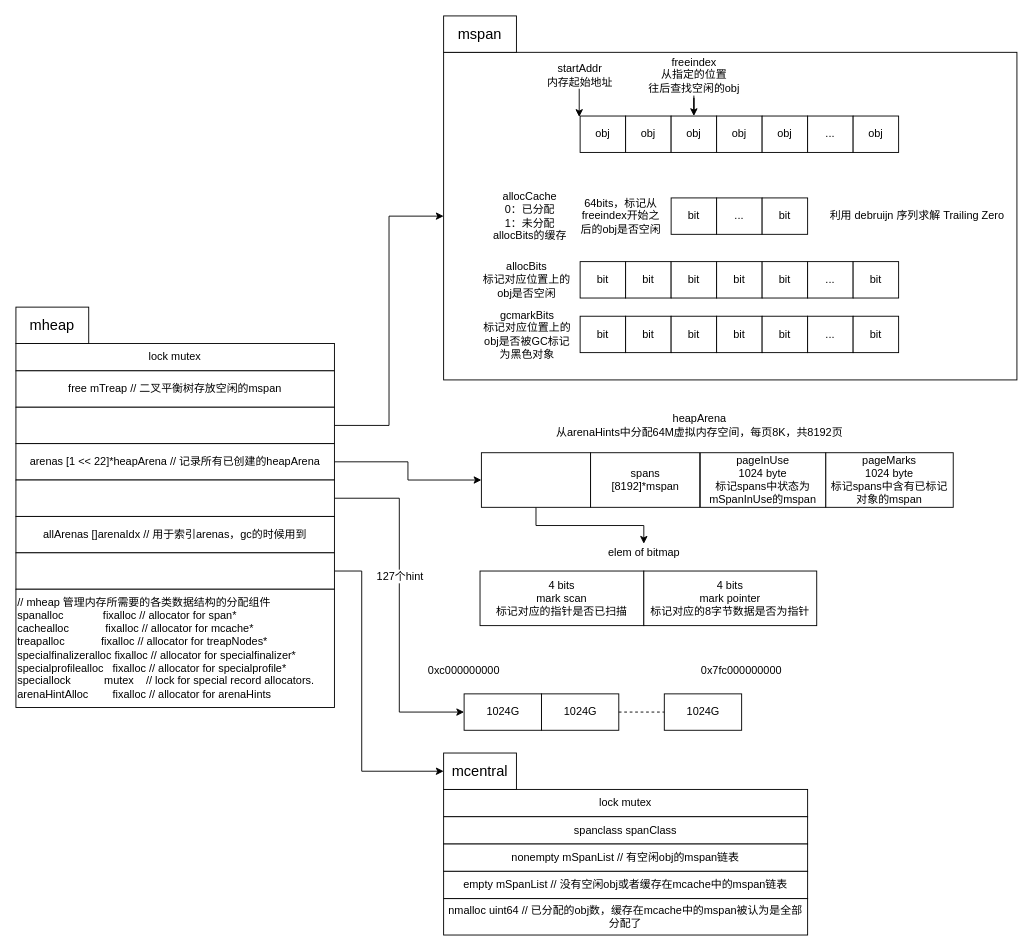
Image size: 1033x951. Some labels were removed from this diagram. The centre of each missing label's shape, as x and y in pixels:
"allspans []*mspan // 记录所有创建过的mspan" goes at [174,425].
"arenaHints *arenaHint // 向操作系统申请堆内存时的内存地址空间起始提示" goes at [174,497].
"bitmap 1<<21 byte" goes at [535,479].
"central [134]mcentral // 管理不同大小的mspan" goes at [174,570].
